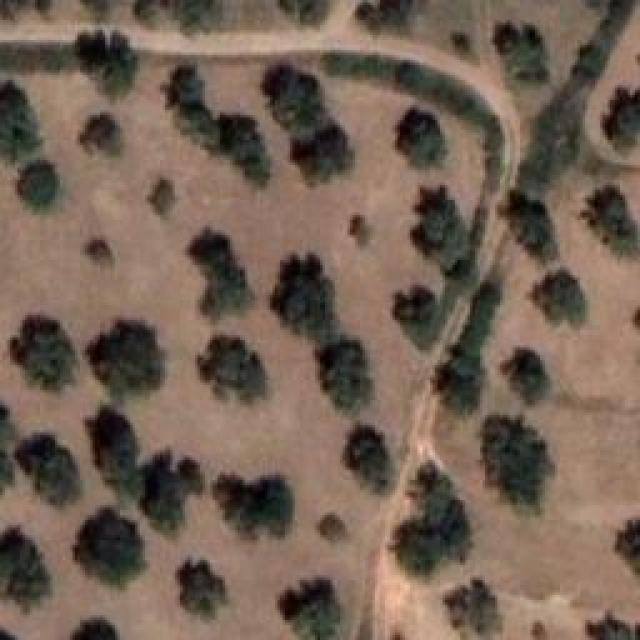Tree: (165, 67, 271, 186), (393, 464, 472, 574), (480, 418, 554, 511), (88, 315, 168, 395), (188, 228, 254, 319), (273, 255, 343, 338), (85, 407, 144, 504), (213, 475, 292, 540), (65, 510, 137, 581), (412, 185, 470, 271), (15, 430, 81, 503), (285, 115, 354, 183), (3, 314, 69, 384), (198, 338, 268, 404), (315, 338, 373, 415), (500, 190, 559, 263), (0, 528, 50, 614), (262, 65, 327, 128), (583, 185, 639, 257), (279, 577, 342, 640), (143, 452, 190, 536), (80, 33, 138, 96), (443, 580, 503, 639), (0, 82, 42, 163), (343, 425, 393, 493), (530, 267, 586, 327), (493, 25, 548, 83), (431, 355, 484, 415), (395, 107, 446, 167), (393, 285, 439, 350), (135, 0, 222, 34), (178, 560, 227, 618), (502, 348, 550, 404), (603, 88, 640, 151), (358, 0, 426, 32), (18, 160, 61, 210), (80, 113, 124, 156), (615, 518, 640, 574), (587, 612, 635, 640), (277, 0, 328, 24), (148, 178, 177, 216), (72, 618, 120, 640), (450, 25, 480, 58), (350, 210, 376, 246), (318, 512, 347, 542), (85, 238, 111, 266), (80, 0, 111, 22), (533, 623, 548, 640)
